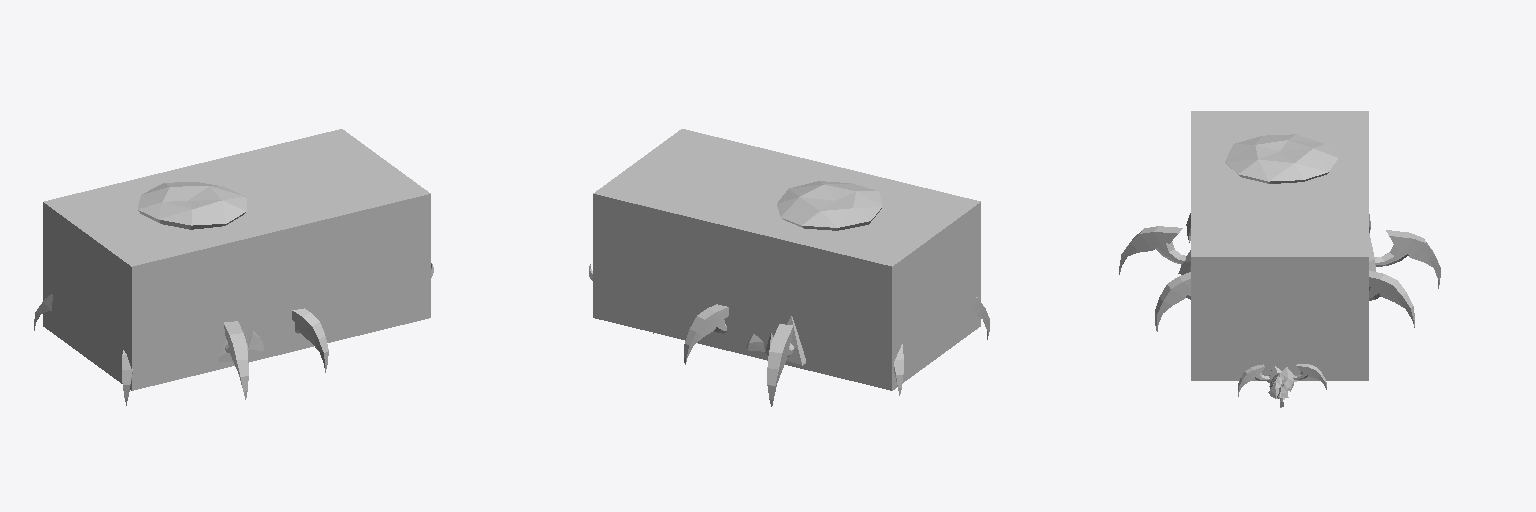
File: fire enemy_000020.obj
3 renders of one model, left to right at view 1: azimuth 30°, elevation 25°; view 2: azimuth 150°, elevation 25°; view 3: azimuth 270°, elevation 25°, orthographic.
Visible parts, largest first — view 1: Cube, head_Cylinder.078, legs_Plane.006; view 2: Cube, head_Cylinder.078, legs_Plane.006, body_Cylinder; view 3: Cube, legs_Plane.006, head_Cylinder.078, body_Cylinder.
Part boxes in pixels (bbox=[...]): Cube: bbox=[43, 129, 430, 390]; head_Cylinder.078: bbox=[138, 182, 246, 229]; legs_Plane.006: bbox=[34, 263, 433, 405]; Cube: bbox=[593, 129, 980, 390]; head_Cylinder.078: bbox=[777, 181, 882, 230]; legs_Plane.006: bbox=[589, 264, 989, 406]; body_Cylinder: bbox=[746, 316, 805, 365]; Cube: bbox=[1191, 111, 1368, 380]; legs_Plane.006: bbox=[1119, 213, 1440, 407]; head_Cylinder.078: bbox=[1225, 134, 1337, 183]; body_Cylinder: bbox=[1178, 233, 1375, 399].
Bounding box in the file's own units: 16.48 × 6.59 × 12.89.